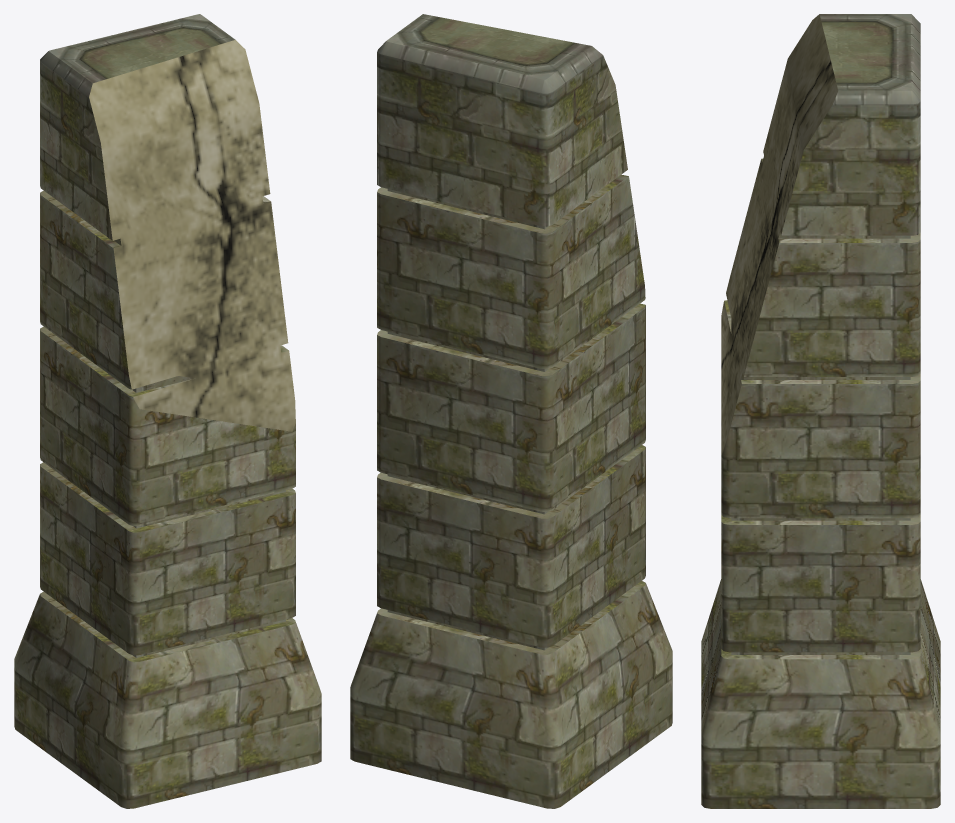
File: colum-04.fbx
3 views of the same model, side by side, from view 1: azimuth 30°, elevation 25°; view 2: azimuth 150°, elevation 25°; view 3: azimuth 270°, elevation 25° (orthographic). The views are drawn at different scales.
Parts seen in each view (by area): view 1: Cube.223; view 2: Cube.223; view 3: Cube.223.
Boxes of the visible parts, x1,y1,x2,y2 form: Cube.223: [14, 14, 321, 808]; Cube.223: [350, 14, 672, 808]; Cube.223: [701, 14, 940, 808].
Bounding box in the file's own units: 0.768 × 2.5 × 0.768.
